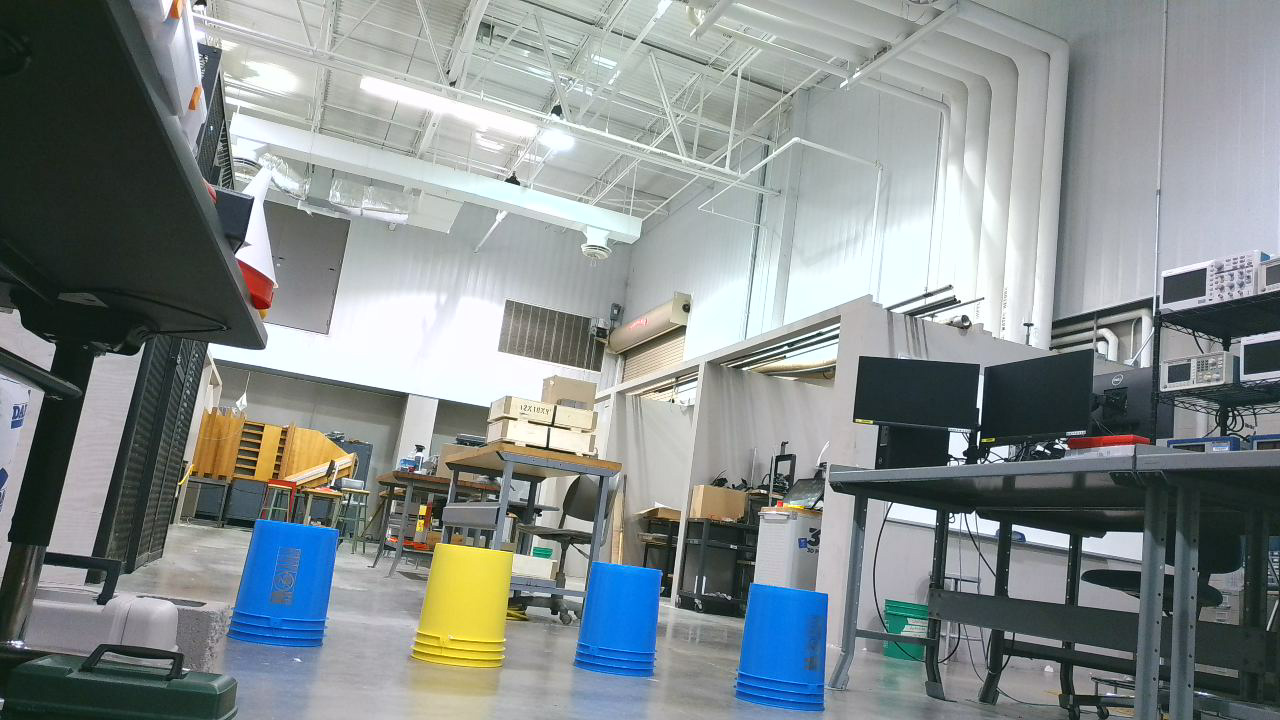blue_bucket: (230, 518, 348, 660), (734, 585, 844, 718), (571, 568, 675, 680)
yellow_bucket: (416, 539, 540, 676)
